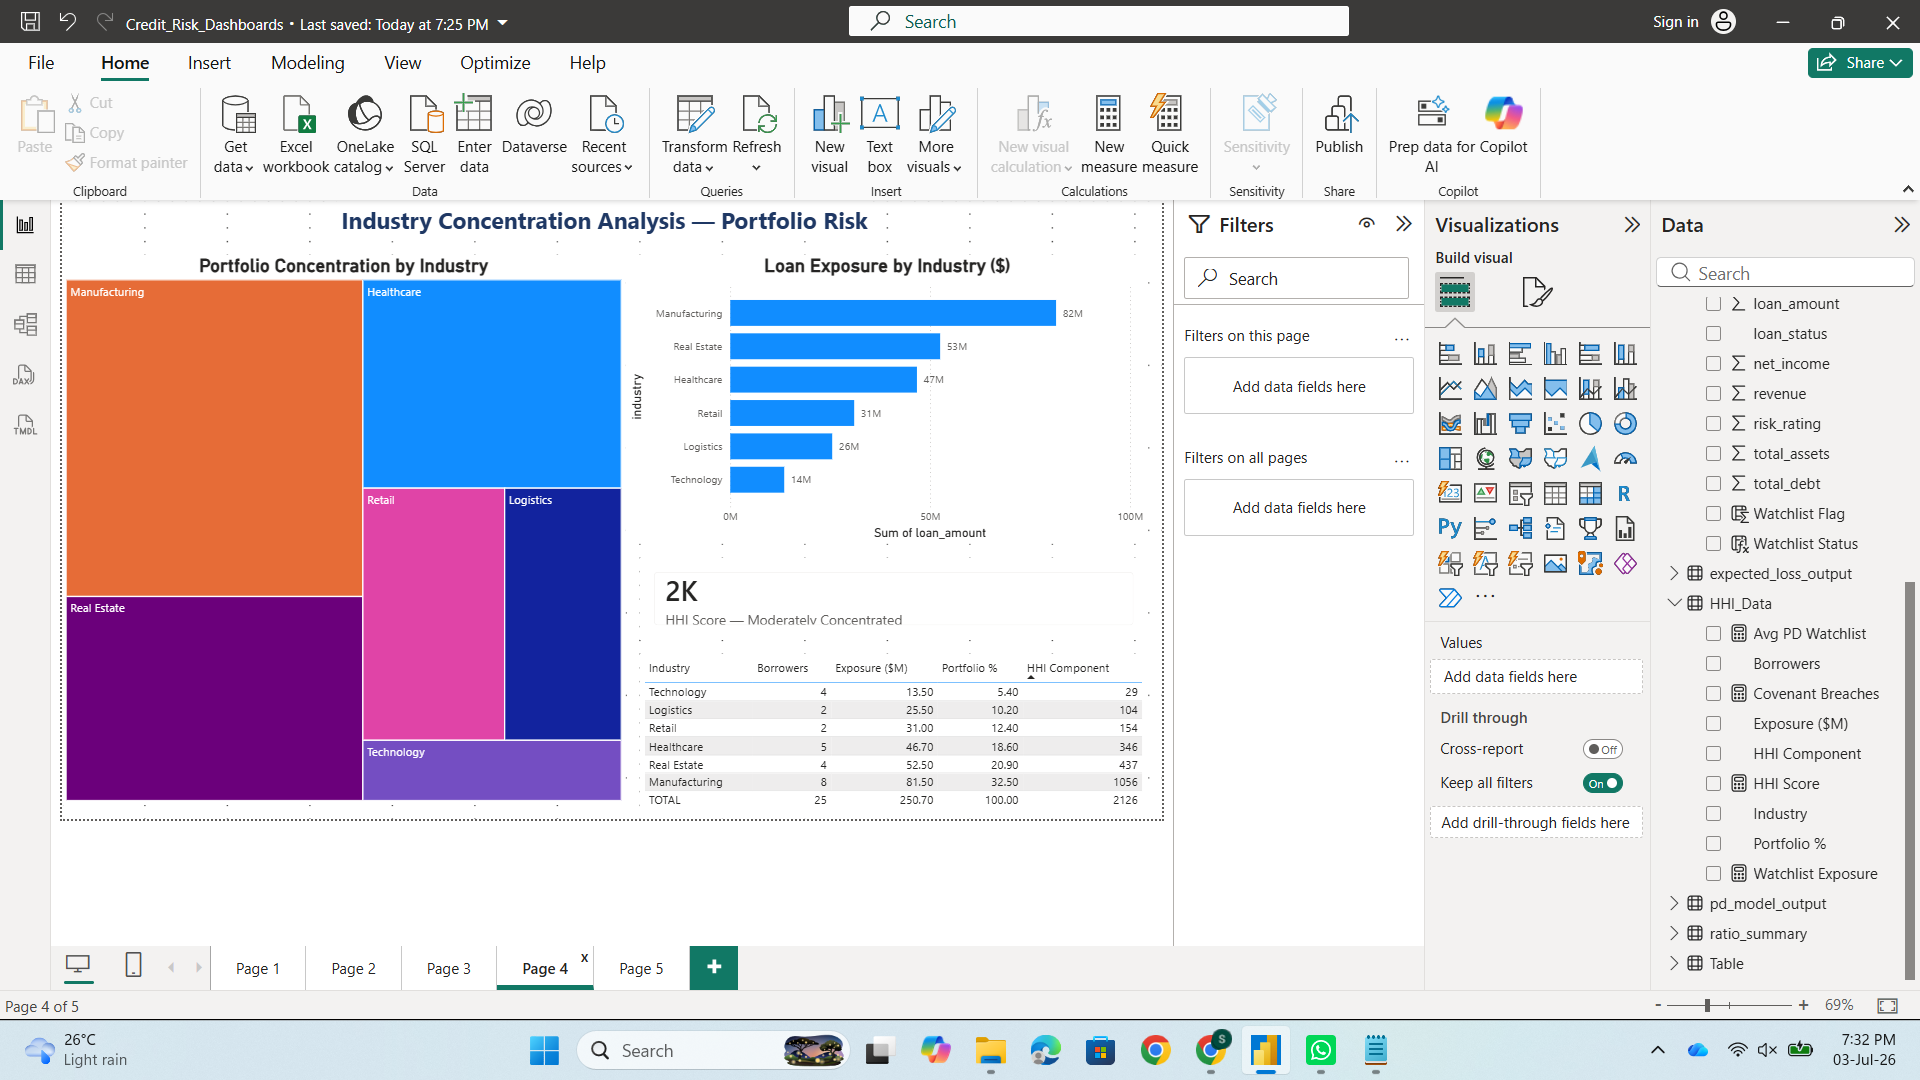

The dashboard page shown, as its layout file describes it:
{"tool":"powerbi","page":{"name":"Page 4","canvas":[1280,720],"ordinal":3},"visuals":[{"type":"textbox","box":[320,0,624,48],"z":0},{"type":"treemap","title":"Portfolio Concentration by Industry","fields":{"Group":["borrowers_data.industry"],"Values":["Sum(borrowers_data.loan_amount)"]},"box":[0,64,656,640],"z":1},{"type":"clusteredBarChart","title":"Loan Exposure by Industry ($)","fields":{"Category":["borrowers_data.industry"],"Y":["Sum(borrowers_data.loan_amount)"]},"box":[656,64,608,336],"z":2},{"type":"cardVisual","fields":{"Data":["HHI_Data.HHI Score"]},"box":[672,416,592,96],"z":3},{"type":"tableEx","fields":{"Values":["HHI_Data.Industry","HHI_Data.Borrowers","HHI_Data.Exposure ($M)","HHI_Data.Portfolio %","HHI_Data.HHI Component"]},"box":[672,528,592,192],"z":4}]}

Visuals, with their boxes on the page's 1280x720 design canvas (x1, y1, x2, y2). These are canvas units, not pixel positions in the 1920x1080 screenshot, which may show the page scaled, cropped or inside an application window:
textbox: x1=320, y1=0, x2=944, y2=48
"Portfolio Concentration by Industry" treemap: x1=0, y1=64, x2=656, y2=704
"Loan Exposure by Industry ($)" clusteredBarChart: x1=656, y1=64, x2=1264, y2=400
cardVisual - HHI_Data.HHI Score: x1=672, y1=416, x2=1264, y2=512
tableEx - HHI_Data.Industry x HHI_Data.Borrowers: x1=672, y1=528, x2=1264, y2=720
